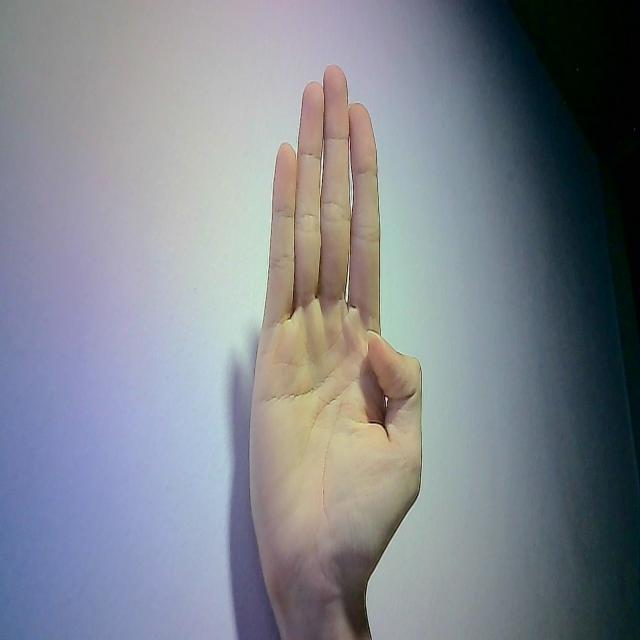B: (245, 56, 429, 601)
